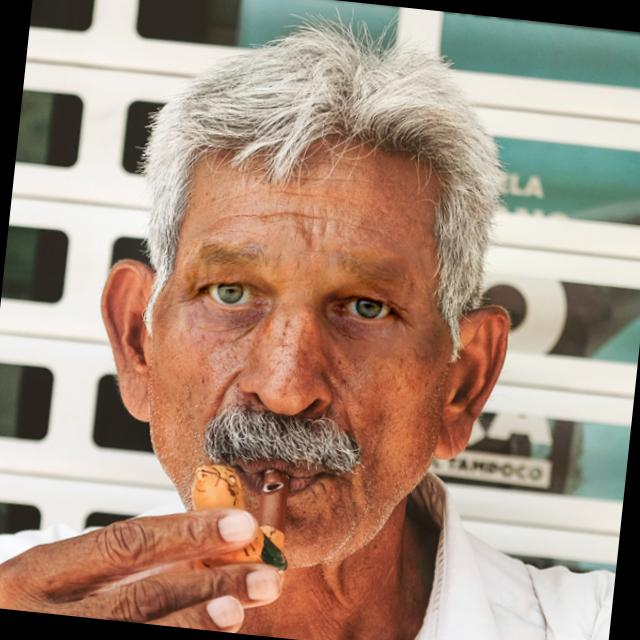face: (74, 18, 558, 604)
